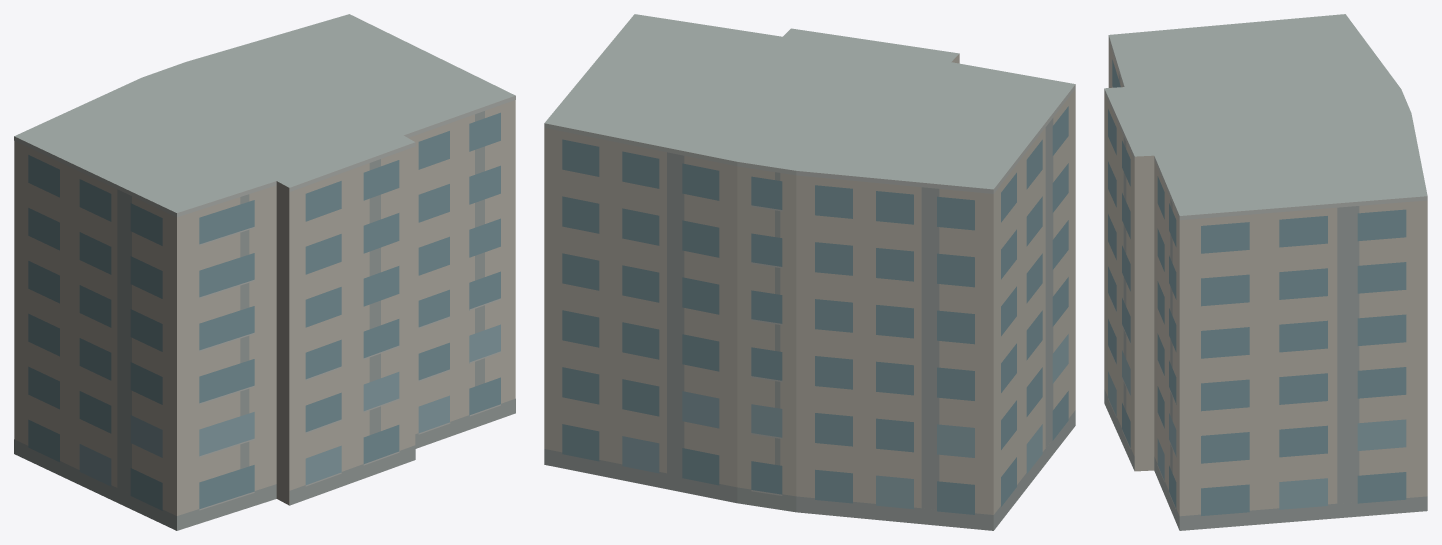
The model's file is survey-upis-32840700.glb.
The picture shows the model from 3 angles, left to right: view 1: azimuth 30°, elevation 25°; view 2: azimuth 150°, elevation 25°; view 3: azimuth 270°, elevation 25°; orthographic projection. The views are drawn at different scales.
Visible parts, largest first — view 1: survey-upis-32840700.tmp; view 2: survey-upis-32840700.tmp; view 3: survey-upis-32840700.tmp.
Boxes of the visible parts, x1,y1,x2,y2 form: survey-upis-32840700.tmp: [14, 14, 515, 530]; survey-upis-32840700.tmp: [544, 14, 1075, 530]; survey-upis-32840700.tmp: [1104, 14, 1427, 530].
Bounding box in the file's own units: 25.06 × 18.2 × 16.95.
